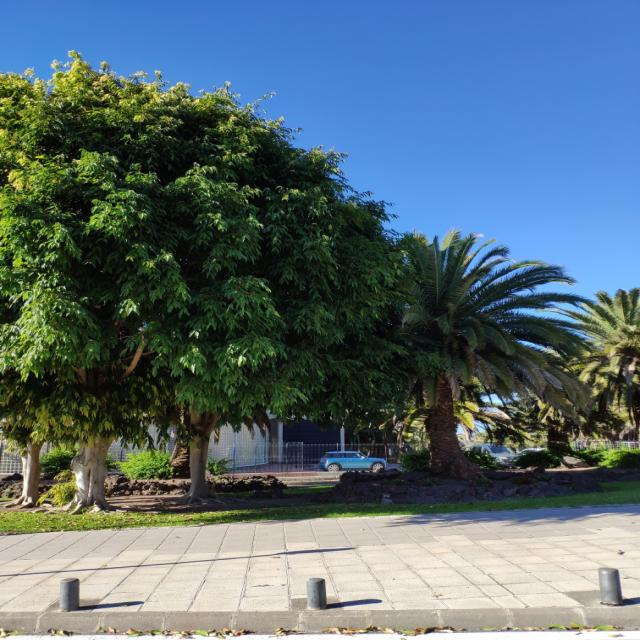Palm-Trees: (299, 232, 580, 470)
